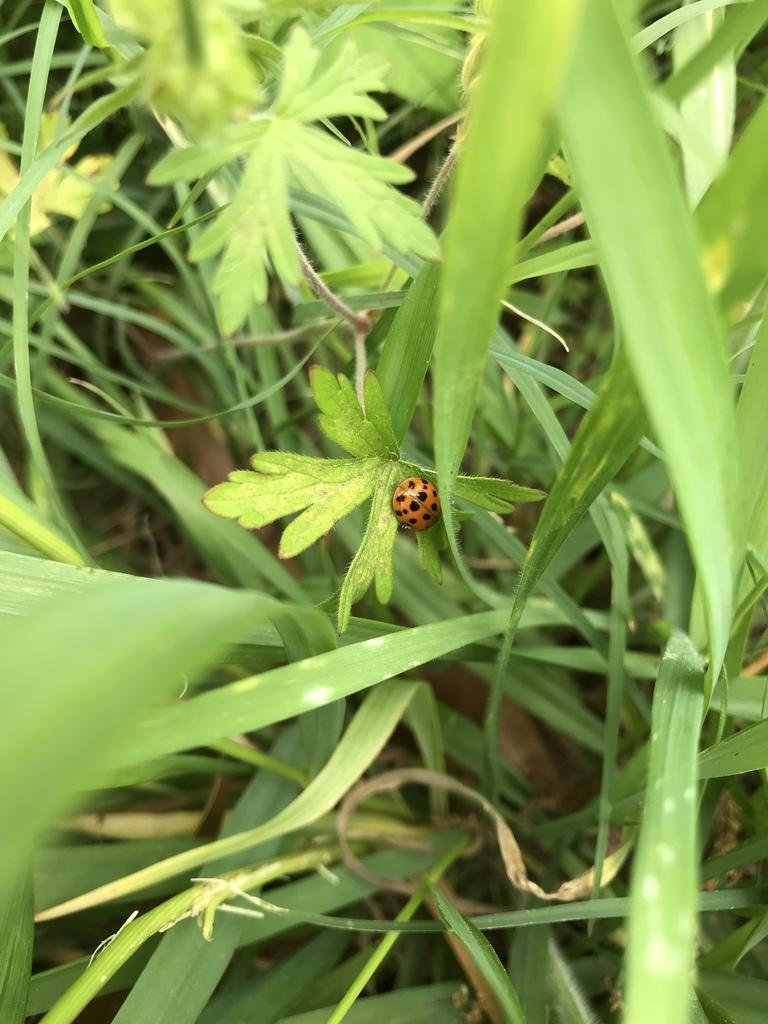ladybug: (394, 477, 444, 534)
